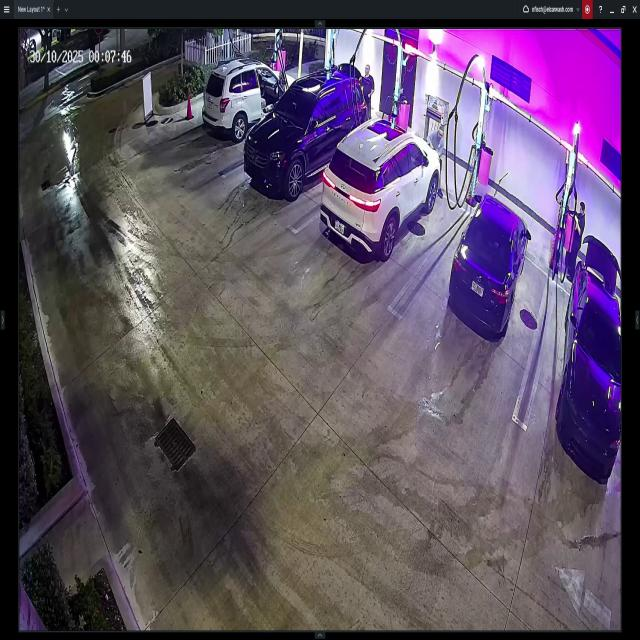Car: (320, 118, 441, 260), (244, 68, 367, 202), (558, 242, 620, 475), (450, 194, 530, 338), (202, 60, 296, 136)
